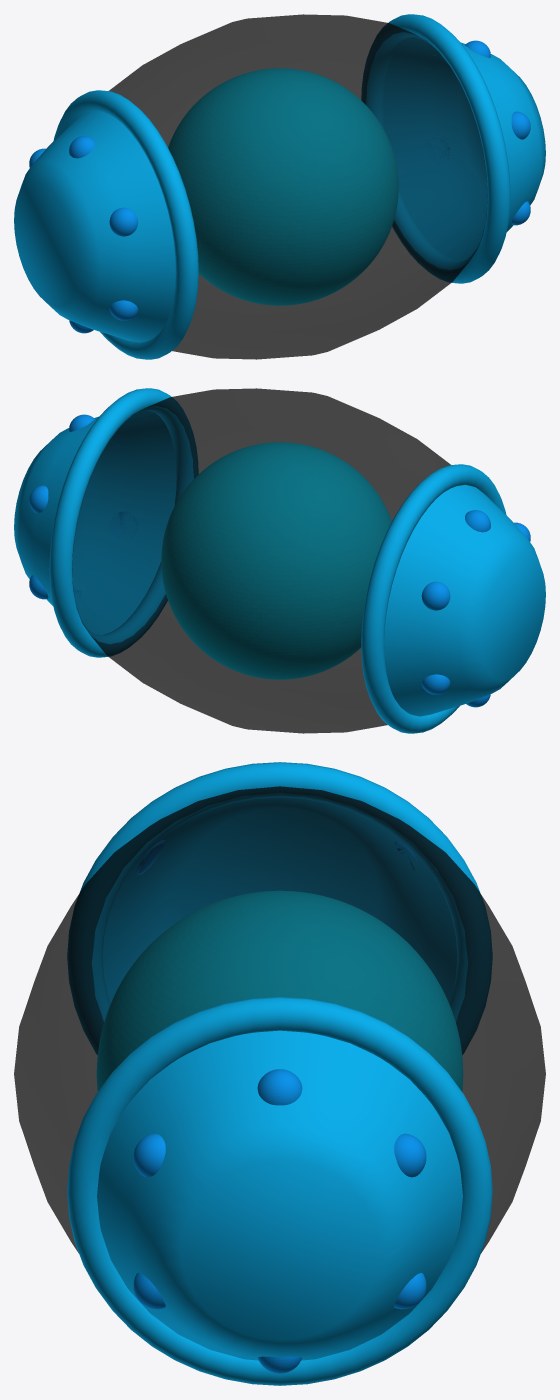
The model's file is AmiboWeapon.fbx.
The picture shows the model from 3 angles, top to bottom: view 1: azimuth 30°, elevation 25°; view 2: azimuth 150°, elevation 25°; view 3: azimuth 270°, elevation 25°; orthographic projection. The views are drawn at different scales.
Visible parts, largest first — view 1: Capsule, Cap, Weapon, CapBall; view 2: Capsule, Cap, Weapon, CapBall; view 3: Cap, Capsule, Weapon, CapBall.
Part boxes in pixels (left/top/right/bottom): Capsule: left=108, top=14, right=487, bottom=359; Cap: left=14, top=14, right=545, bottom=359; Weapon: left=168, top=68, right=398, bottom=305; CapBall: left=29, top=40, right=530, bottom=333; Capsule: left=72, top=388, right=451, bottom=733; Cap: left=14, top=388, right=545, bottom=733; Weapon: left=161, top=442, right=391, bottom=679; CapBall: left=29, top=414, right=530, bottom=707; Cap: left=67, top=762, right=492, bottom=1385; Capsule: left=14, top=786, right=545, bottom=1253; Weapon: left=96, top=890, right=463, bottom=1091; CapBall: left=133, top=840, right=426, bottom=1373.
Bounding box in the file's own units: 141 × 90 × 90.
